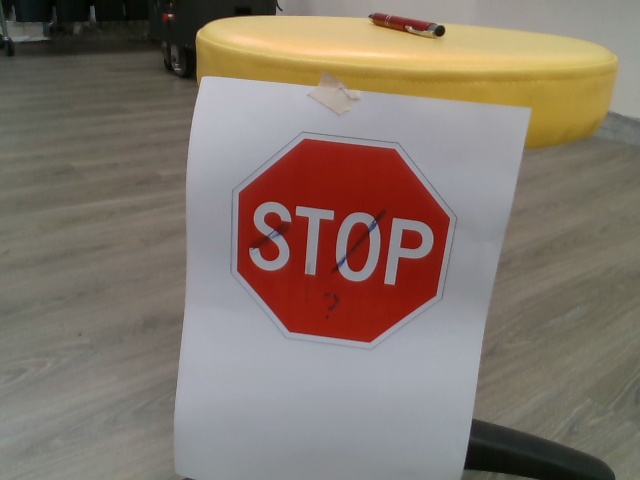stop: (225, 130, 460, 350)
